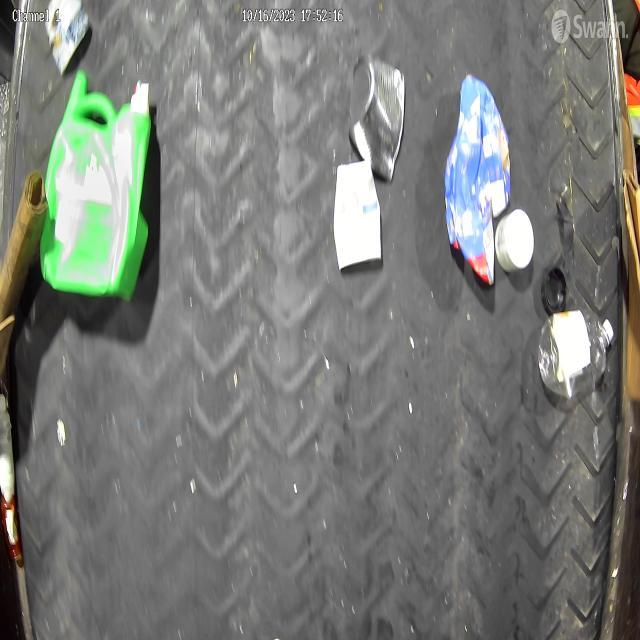can: (349, 56, 406, 184)
non_white_jug: (39, 70, 156, 304), (444, 74, 512, 285)
plastic_bottle: (540, 311, 614, 398)
